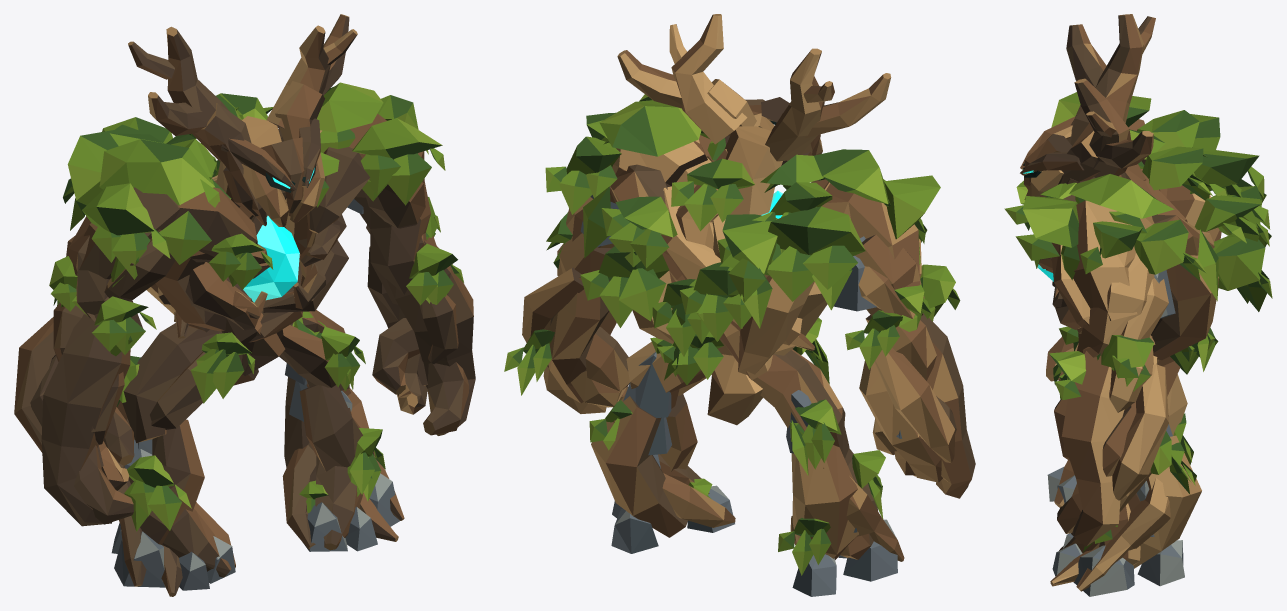
Rendered from tide-root-colossus-complete-grown-anatomy.glb.
3 views of the same model, side by side, from view 1: azimuth 30°, elevation 25°; view 2: azimuth 150°, elevation 25°; view 3: azimuth 270°, elevation 25° (orthographic). The views are drawn at different scales.
Parts seen in each view (by area): view 1: Forearm main to outer claw -1, Left scapula saddle, Thigh load root -1, Calf crossing root 1, Arm descending trunk 1, Forearm main to outer claw 1, Calf crossing root -1, Forearm root split -1, Exposed turquoise heart, Right clavicle cascade, Middle root digit 1, Crown left main (+75 smaller); view 2: Calf rear load 1, Calf rear load -1, Forearm root split -1, Crown right main, Right high shoulder island, Forearm main to outer claw -1, Forearm inner braid 1, Thigh load root -1, Forearm inner braid -1, Left shoulder rear fold, Crown left main, Flank bowed trunk -1 (+60 smaller); view 3: Forearm main to outer claw 1, Forearm root split 1, Flank bowed trunk 1, Outer shoulder root 1, Arm descending trunk 1, Lower leg lateral root 1, Crown left main, Calf rear load 1, Right high shoulder island, Right shoulder front fold, Right lower back island, Right rear outer fall (+51 smaller).
Part boxes in pixels (box(x1,y1,x2,y2)): Forearm main to outer claw -1: box(41, 314, 130, 526); Left scapula saddle: box(99, 139, 214, 205); Thigh load root -1: box(122, 323, 221, 443); Calf crossing root 1: box(299, 385, 374, 471); Arm descending trunk 1: box(354, 182, 430, 304); Forearm main to outer claw 1: box(386, 238, 475, 435); Calf crossing root -1: box(140, 419, 204, 544); Forearm root split -1: box(14, 317, 55, 452); Exposed turquoise heart: box(243, 215, 299, 302); Right clavicle cascade: box(307, 147, 369, 233); Middle root digit 1: box(423, 362, 468, 435); Crown left main: box(166, 26, 229, 161); Calf rear load 1: box(591, 394, 687, 537); Calf rear load -1: box(791, 445, 858, 559); Forearm root split -1: box(874, 348, 955, 463); Crown right main: box(671, 14, 747, 144); Right high shoulder island: box(599, 100, 701, 156); Forearm main to outer claw -1: box(920, 313, 975, 498); Forearm inner braid 1: box(548, 277, 609, 403); Thigh load root -1: box(749, 350, 849, 458); Forearm inner braid -1: box(859, 361, 942, 482); Left shoulder rear fold: box(768, 206, 865, 255); Crown left main: box(765, 48, 824, 161); Flank bowed trunk -1: box(738, 275, 814, 375); Forearm main to outer claw 1: box(1061, 351, 1124, 546); Forearm root split 1: box(1112, 364, 1168, 500); Flank bowed trunk 1: box(1151, 255, 1218, 360); Outer shoulder root 1: box(1073, 200, 1154, 320); Arm descending trunk 1: box(1077, 253, 1154, 355); Lower leg lateral root 1: box(1076, 478, 1170, 591); Crown left main: box(1088, 14, 1143, 134); Calf rear load 1: box(1133, 435, 1201, 568); Right high shoulder island: box(1069, 174, 1174, 218); Right shoulder front fold: box(1022, 196, 1078, 247); Right lower back island: box(1213, 236, 1265, 290); Right rear outer fall: box(1134, 219, 1188, 274).
Bounding box in the file's own units: 5.2 × 6.02 × 2.98.
